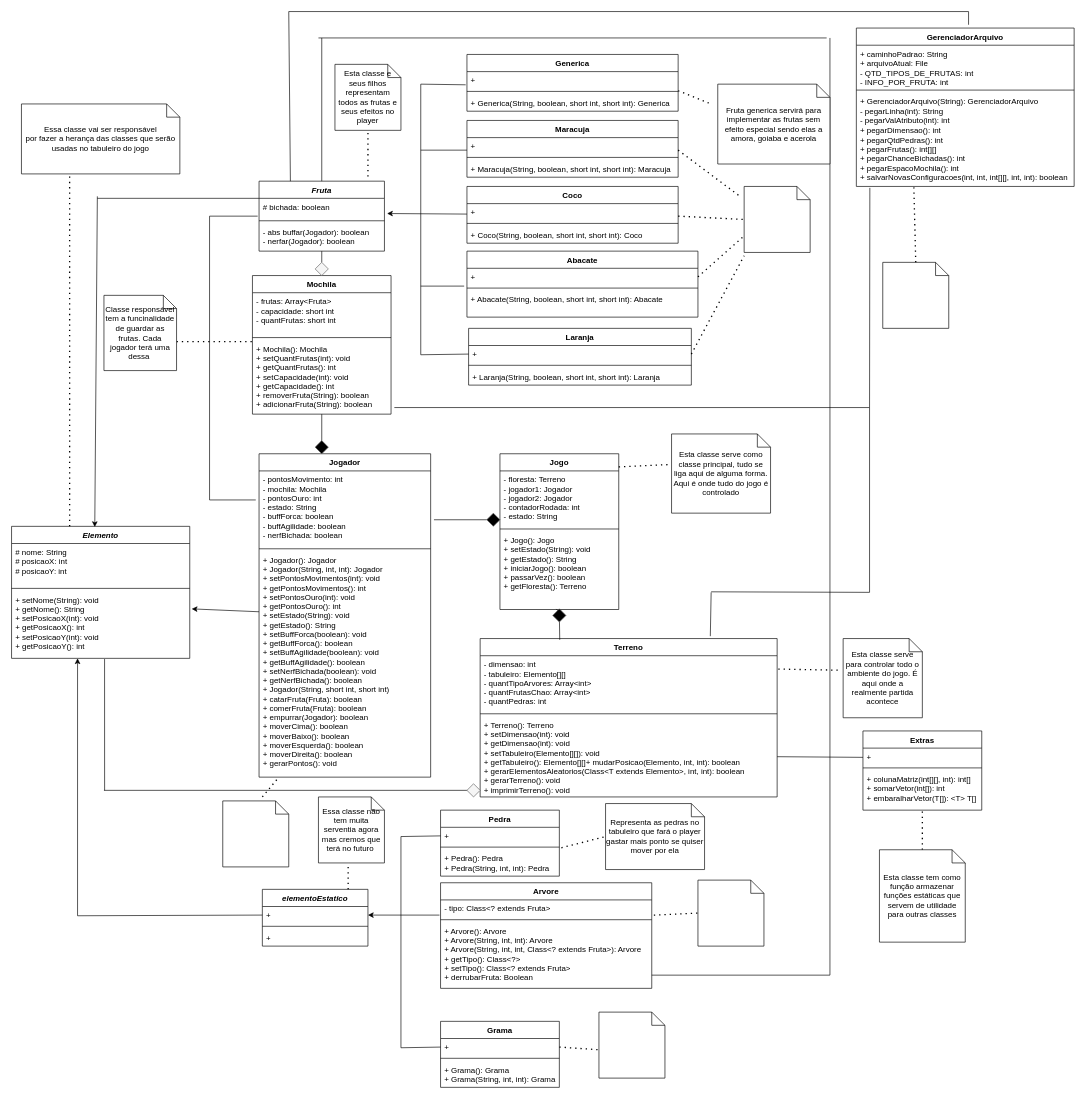
Image size: 1086x1101. Some labels were removed from this diagram. The shapes that lost their labels are listed below. From the top down, each one's centre as x and y in pixels, then its label:
At pixel 776 219: "Estas são as classes de cada fruta especial".
At pixel 915 295: "Esta classe é responsável por lidar com o arquivo de configuração do terreno".
At pixel 255 833: "Aqui onde todas as ações de cada jogador são controladas".
At pixel 730 912: "Essa aqui representará as árvores que darão frutas pro jogador".
At pixel 631 1044: "Grama representa espaço vazio no tabuleiro".
